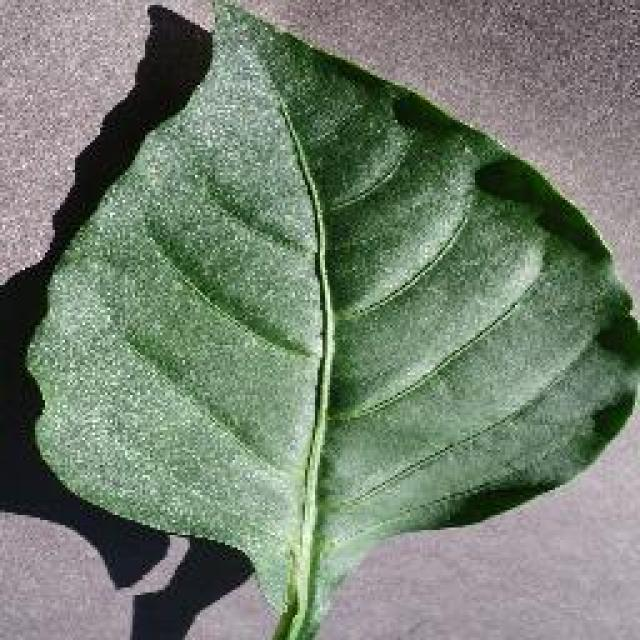Leaf: (10, 6, 640, 609)
